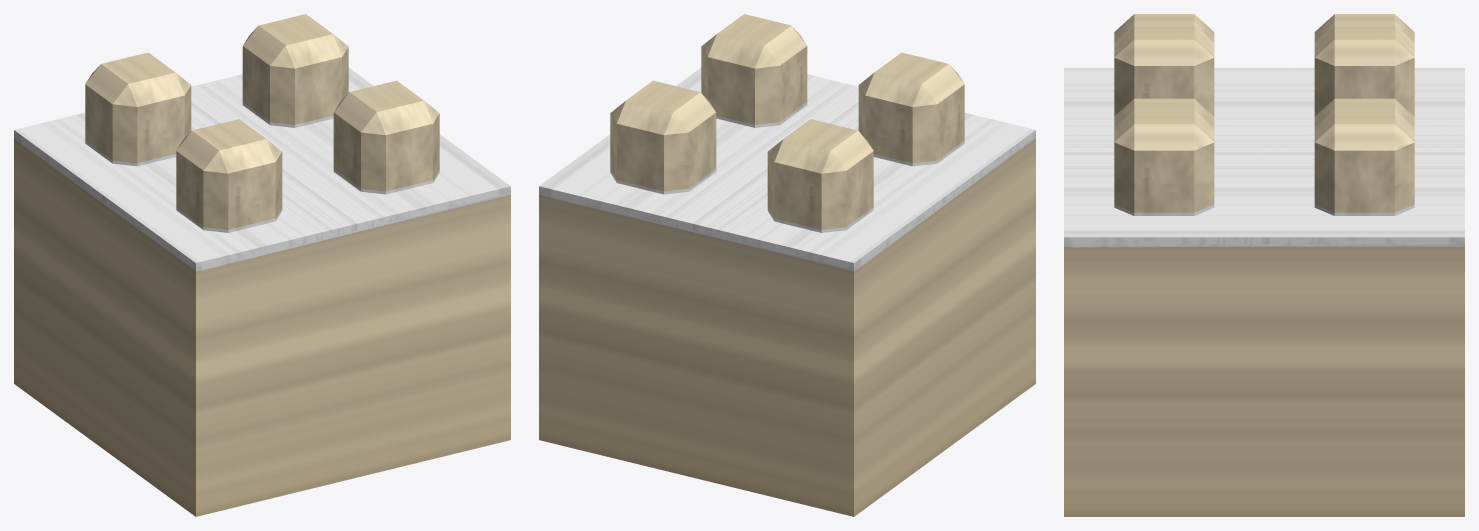
File: wall.glb
3 renders of one model, left to right at view 1: azimuth 30°, elevation 25°; view 2: azimuth 150°, elevation 25°; view 3: azimuth 270°, elevation 25°, orthographic. The views are drawn at different scales.
Parts seen in each view (by area): view 1: wall; view 2: wall; view 3: wall.
Part boxes in pixels (x1,y1,x2,y2): wall: (14,14,510,516); wall: (539,14,1035,516); wall: (1064,14,1464,516).
Bounding box in the file's own units: 1 × 1 × 1.
1 material, 1 textured.
